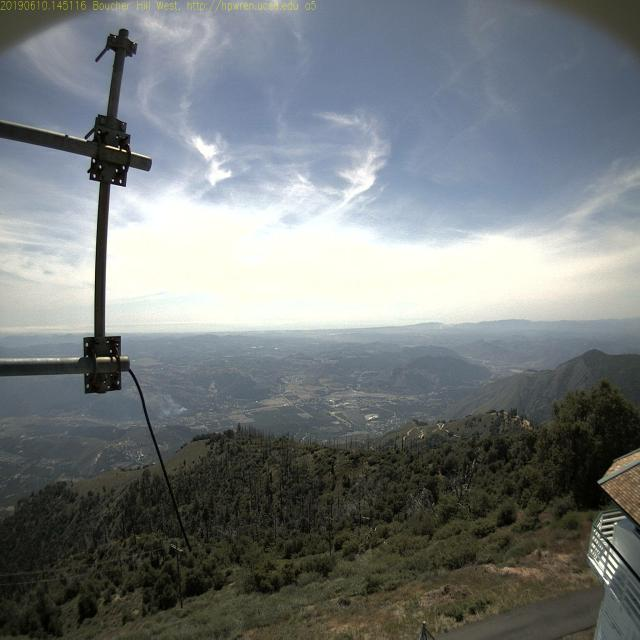smoke: (173, 392, 194, 421)
